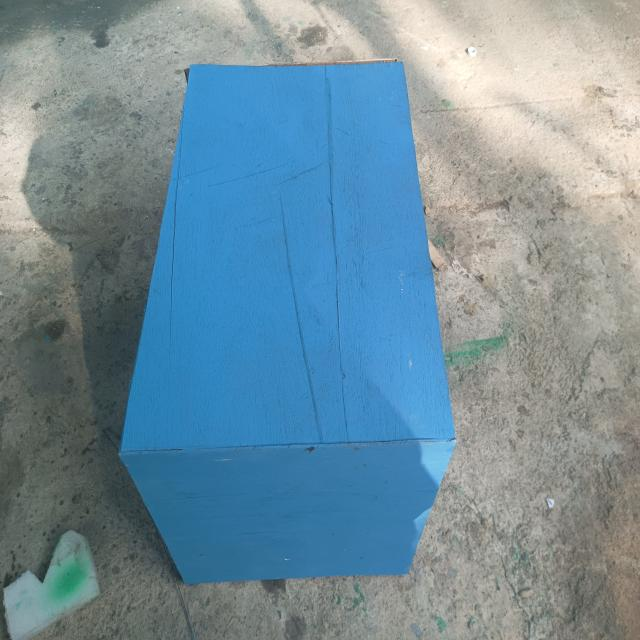blue_box: (117, 51, 459, 578)
